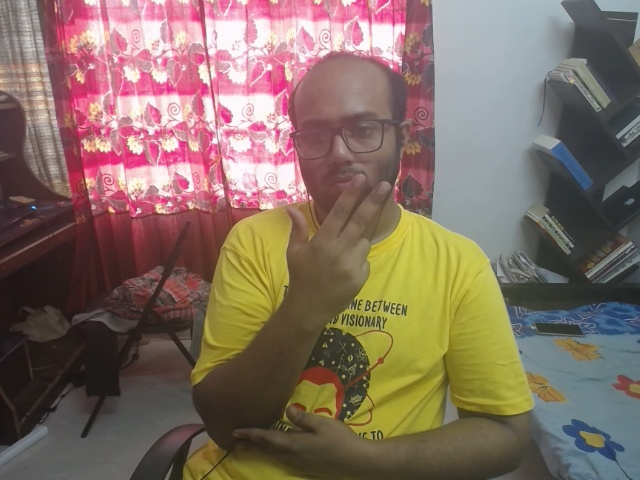eight: (265, 162, 423, 312)
